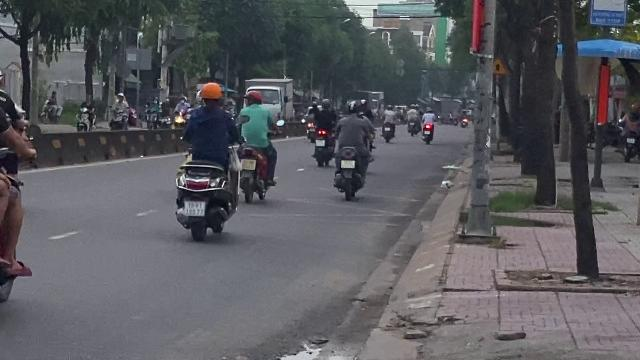helmet: (199, 82, 223, 106), (244, 89, 262, 105)
licenseplate: (186, 201, 204, 215), (240, 159, 256, 169)
motorcyclist: (170, 80, 238, 240), (235, 87, 279, 203)
